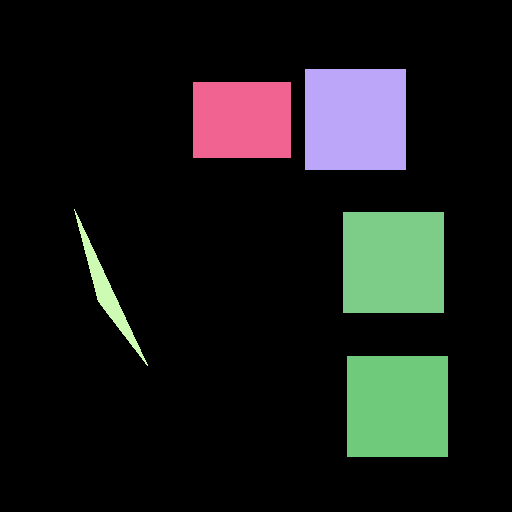rectangle: (193, 82, 290, 157)
square: (347, 356, 447, 456), (343, 212, 443, 312), (305, 69, 405, 169)
triangle: (74, 209, 147, 365)
